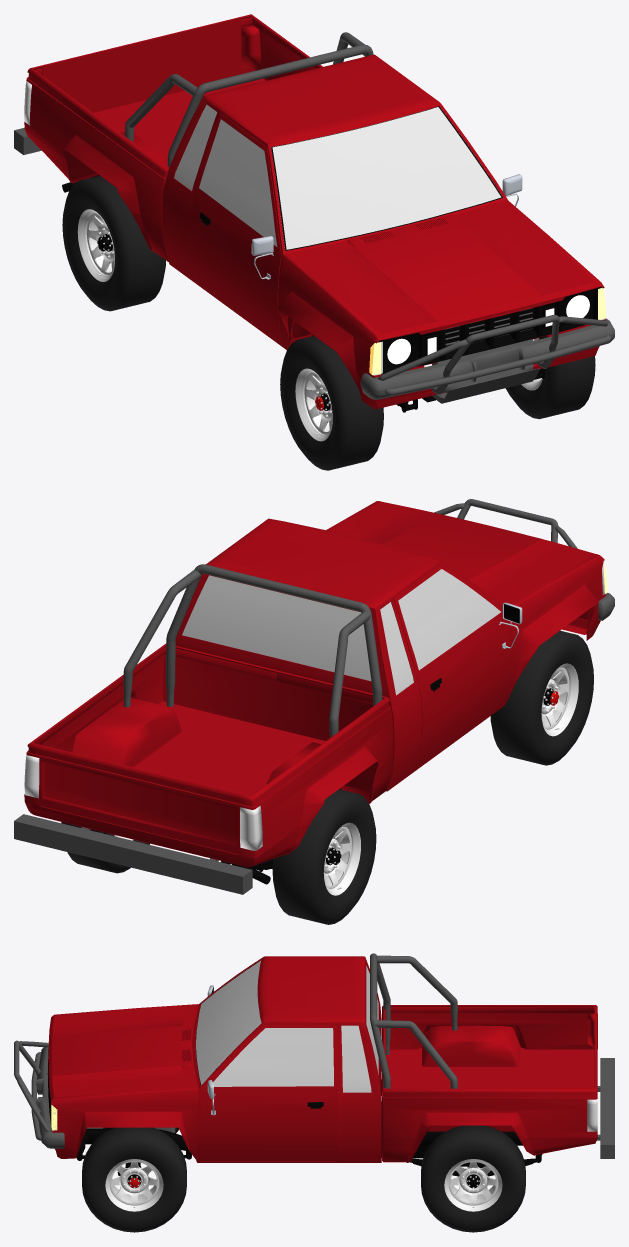
Rendered from shitbox_truck.glb.
The picture shows the model from 3 angles, top to bottom: view 1: azimuth 30°, elevation 25°; view 2: azimuth 150°, elevation 25°; view 3: azimuth 270°, elevation 25°; orthographic projection. The views are drawn at different scales.
Parts seen in each view (by area): view 1: truck_body_Plane.031, truck_hood_Plane.015, truck_bed_Plane.007, truck_door_R_Cube.036, truck_tailgate_Plane.008, truck_wheel_FR_steelwheel_03a_17x9.006, truck_wheel_RR_steelwheel_03a_17x9.005, truck_bumper_F_Plane.011, truck_rollbar_Cylinder, truck_wheel_FL_steelwheel_03a_17x9; view 2: truck_bed_Plane.007, truck_body_Plane.031, truck_door_R_Cube.036, truck_tailgate_Plane.008, truck_hood_Plane.015, truck_wheel_RR_steelwheel_03a_17x9.005, truck_wheel_FR_steelwheel_03a_17x9.006, truck_rollbar_Cylinder, truck_bumper_R_Cube, truck_bumper_F_Plane.011, truck_wheel_RL_steelwheel_03a_17x9.004; view 3: truck_bed_Plane.007, truck_body_Plane.031, truck_door_L_Plane.027, truck_hood_Plane.015, truck_wheel_RL_steelwheel_03a_17x9.004, truck_wheel_FL_steelwheel_03a_17x9, truck_rollbar_Cylinder, truck_bumper_F_Plane.011, truck_bumper_R_Cube, truck_frame_pickup_frame_short.
Part boxes in pixels (<box>): truck_body_Plane.031: <box>162,54,606,409</box>; truck_hood_Plane.015: <box>296,207,597,339</box>; truck_bed_Plane.007: <box>24,14,322,261</box>; truck_door_R_Cube.036: <box>189,113,284,346</box>; truck_tailgate_Plane.008: <box>41,17,240,112</box>; truck_wheel_FR_steelwheel_03a_17x9.006: <box>280,336,383,470</box>; truck_wheel_RR_steelwheel_03a_17x9.005: <box>62,175,165,311</box>; truck_bumper_F_Plane.011: <box>360,315,614,403</box>; truck_rollbar_Cylinder: <box>124,32,373,166</box>; truck_wheel_FL_steelwheel_03a_17x9: <box>505,336,595,419</box>; truck_bed_Plane.007: <box>24,643,393,867</box>; truck_body_Plane.031: <box>175,501,607,791</box>; truck_door_R_Cube.036: <box>393,564,522,767</box>; truck_tailgate_Plane.008: <box>40,745,240,854</box>; truck_hood_Plane.015: <box>330,501,594,603</box>; truck_wheel_RR_steelwheel_03a_17x9.005: <box>272,789,376,924</box>; truck_wheel_FR_steelwheel_03a_17x9.006: <box>490,630,593,765</box>; truck_rollbar_Cylinder: <box>123,564,382,737</box>; truck_bumper_R_Cube: <box>14,814,252,894</box>; truck_bumper_F_Plane.011: <box>434,499,614,620</box>; truck_wheel_RL_steelwheel_03a_17x9.004: <box>61,822,149,873</box>; truck_bed_Plane.007: <box>382,1005,597,1162</box>; truck_body_Plane.031: <box>47,956,381,1162</box>; truck_door_L_Plane.027: <box>201,1024,338,1160</box>; truck_hood_Plane.015: <box>48,1006,187,1099</box>; truck_wheel_RL_steelwheel_03a_17x9.004: <box>421,1125,525,1232</box>; truck_wheel_FL_steelwheel_03a_17x9: <box>82,1127,186,1232</box>; truck_rollbar_Cylinder: <box>370,953,457,1088</box>; truck_bumper_F_Plane.011: <box>14,1040,102,1148</box>; truck_bumper_R_Cube: <box>597,1058,614,1158</box>; truck_frame_pickup_frame_short: <box>82,1079,522,1158</box>.
Bounding box in the file's own units: 1.88 × 1.74 × 4.68.
